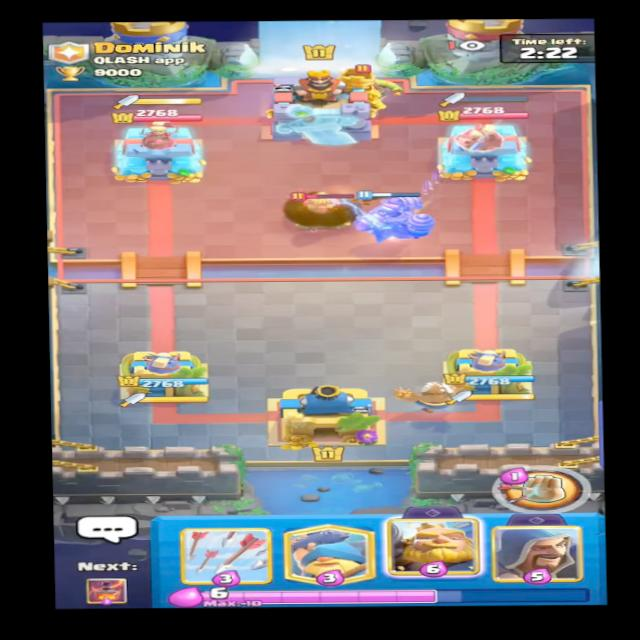goblin-demolisher: (332, 67, 403, 101)
tesla: (281, 186, 368, 235)
